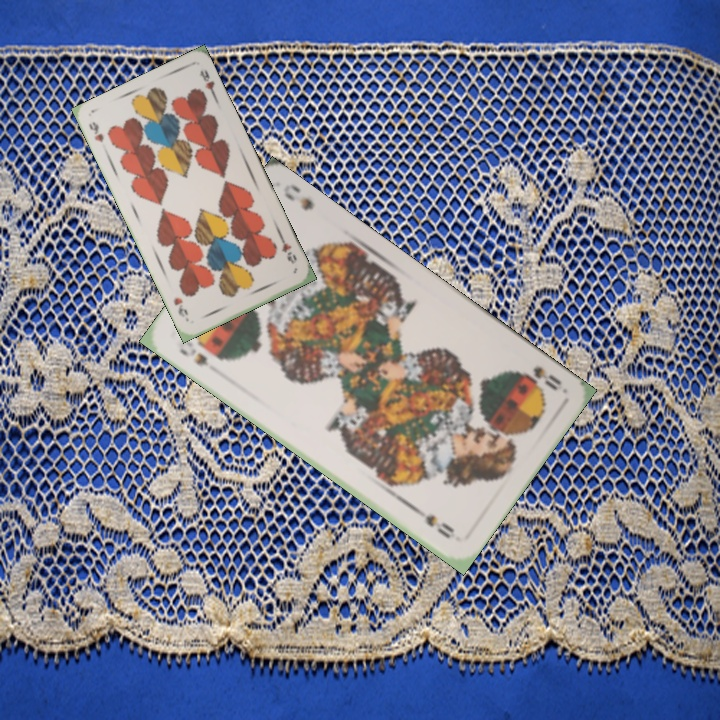H9: (276, 233, 299, 267), (84, 118, 106, 145)
SO: (512, 362, 564, 394), (175, 344, 222, 376)
